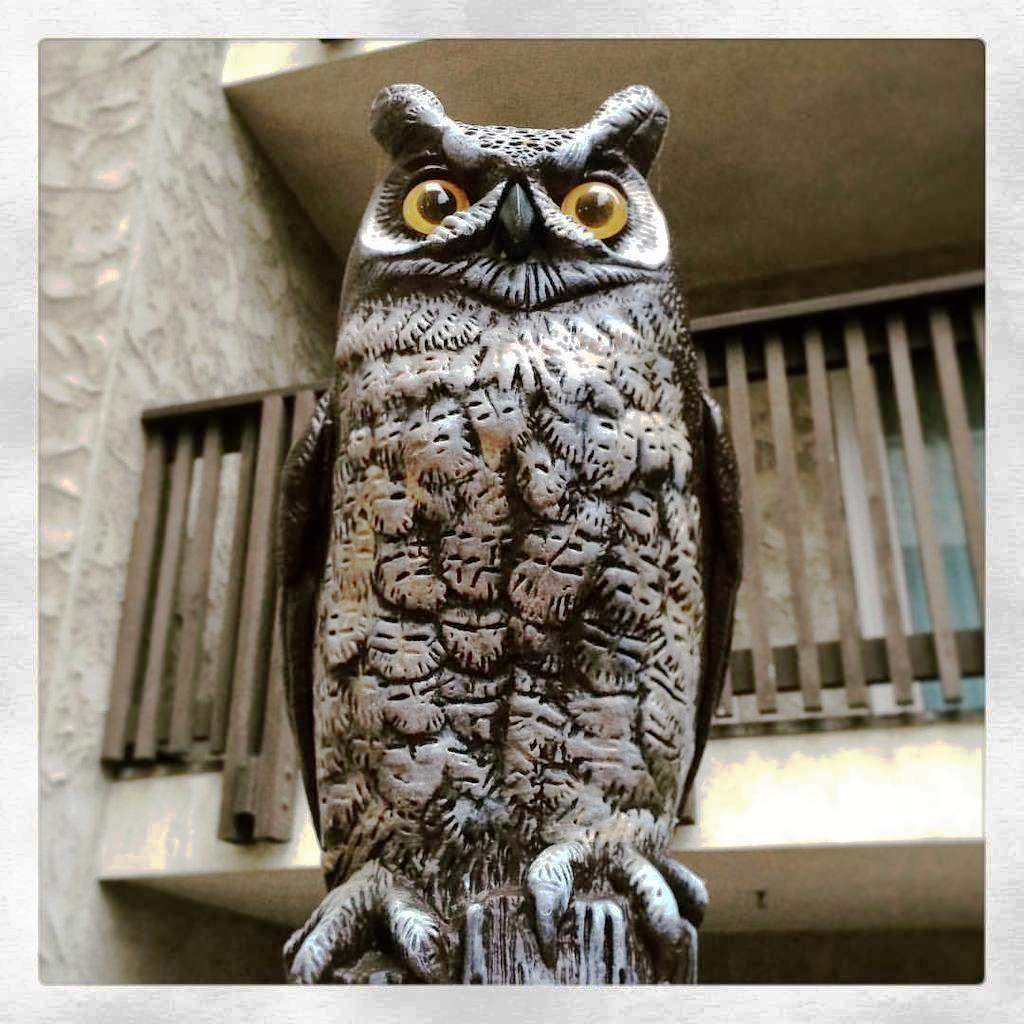Owl: (275, 78, 747, 980)
